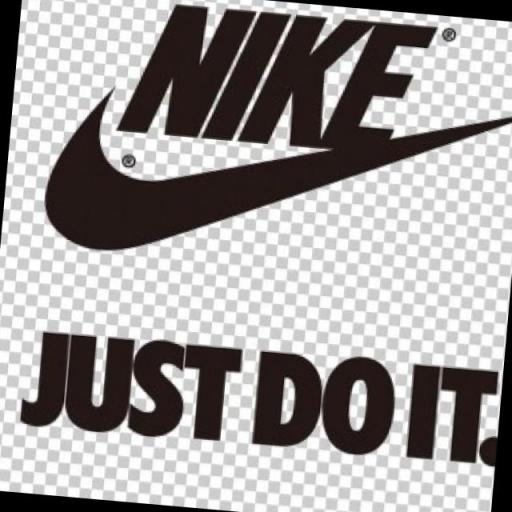Nike: (39, 68, 512, 290), (116, 0, 438, 161)
